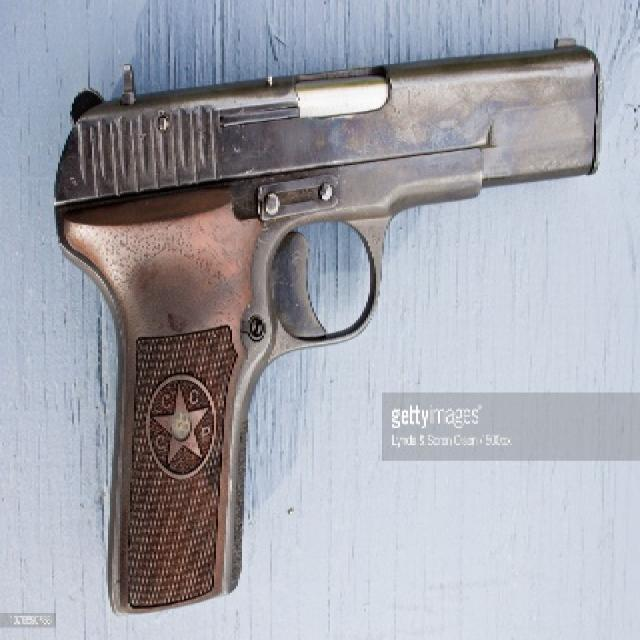handgun: (57, 31, 605, 619)
